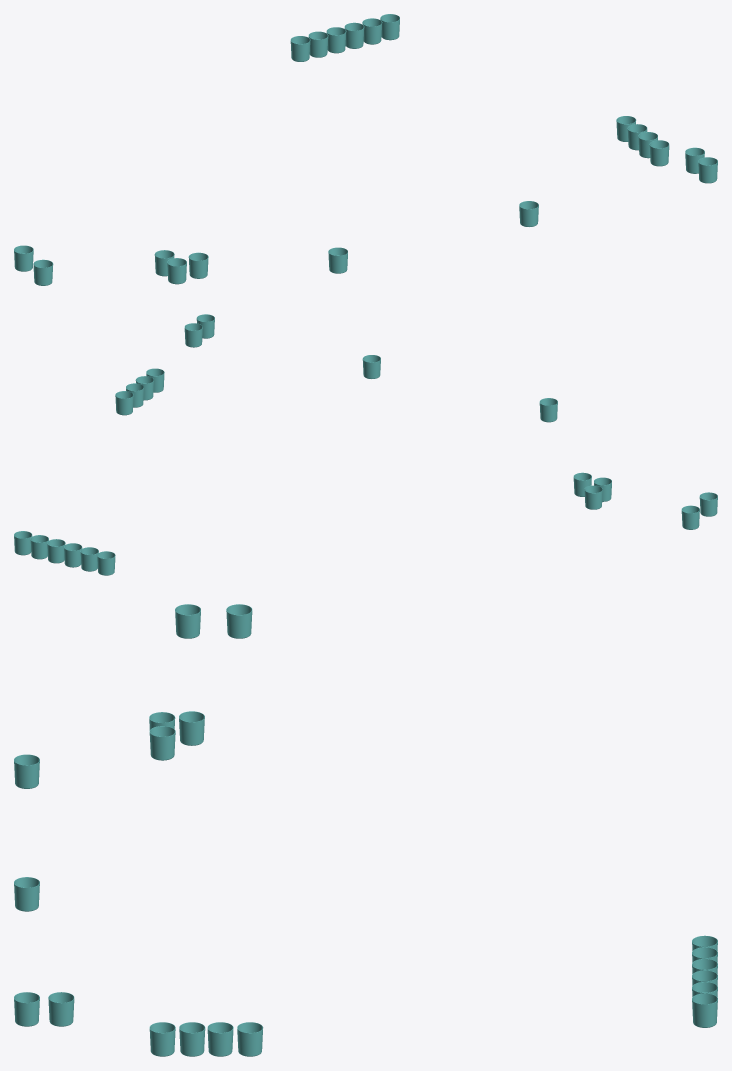
The model's file is VasosVidrio.fbx.
3 renders of one model, top to bottom at view 1: azimuth 30°, elevation 25°; view 2: azimuth 150°, elevation 25°; view 3: azimuth 270°, elevation 25°, orthographic. The views are drawn at different scales.
Parts seen in each view (by area): view 1: VasoCristal11, VasoCristal13, VasoCristal6, VasoCristal8, VasoCristal9, VasoCristal15, VasoCristal10, VasoCristal12, VasoCristal, VasoCristal1, VasoCristal4, VasoCristal5 (+2 smaller); view 2: no part large enough to name; view 3: VasoCristal18, VasoCristal11, VasoCristal14, VasoCristal15, VasoCristal8, VasoCristal16, VasoCristal3, VasoCristal7, VasoCristal17, VasoCristal10, VasoCristal12, VasoCristal13 (+1 smaller).
Part boxes in pixels (<box>): VasoCristal11: <box>14,245,33,271</box>; VasoCristal13: <box>698,157,717,183</box>; VasoCristal6: <box>167,258,186,284</box>; VasoCristal8: <box>188,252,208,278</box>; VasoCristal9: <box>328,247,347,273</box>; VasoCristal15: <box>649,140,669,166</box>; VasoCristal10: <box>33,259,53,285</box>; VasoCristal12: <box>519,201,538,226</box>; VasoCristal: <box>290,36,310,61</box>; VasoCristal1: <box>308,31,328,57</box>; VasoCristal4: <box>362,18,382,44</box>; VasoCristal5: <box>344,22,364,48</box>; VasoCristal18: <box>207,1022,233,1056</box>; VasoCristal11: <box>226,604,252,638</box>; VasoCristal14: <box>48,992,74,1026</box>; VasoCristal15: <box>149,1022,175,1056</box>; VasoCristal8: <box>149,726,175,760</box>; VasoCristal16: <box>179,1022,205,1056</box>; VasoCristal3: <box>692,993,717,1027</box>; VasoCristal7: <box>179,711,204,745</box>; VasoCristal17: <box>237,1022,263,1056</box>; VasoCristal10: <box>175,604,200,638</box>; VasoCristal12: <box>14,877,39,911</box>; VasoCristal13: <box>14,992,39,1026</box>.
Size of the model in its own units: 346 by 25.93 by 257.
